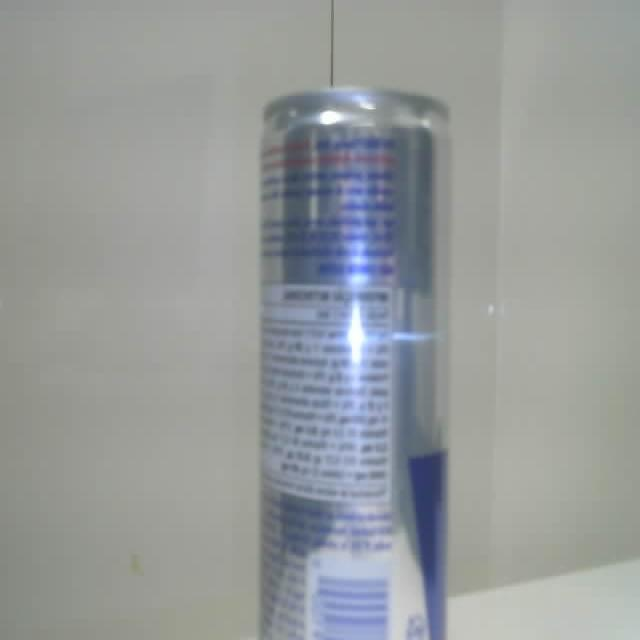redbull can: (260, 88, 448, 639)
